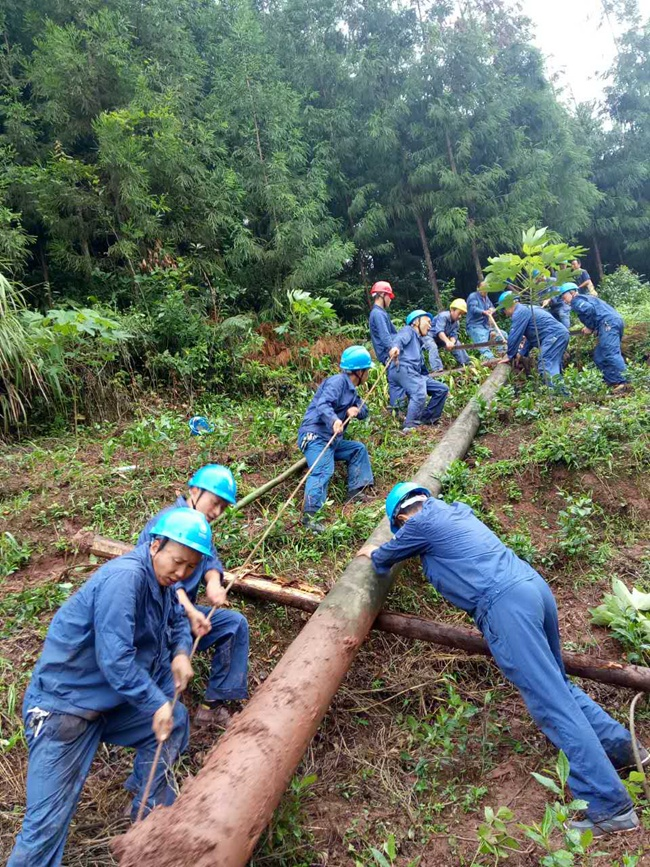blue: (148, 506, 212, 589), (186, 463, 235, 524), (382, 478, 431, 533), (338, 344, 373, 386), (406, 307, 431, 338), (557, 281, 579, 307)
red: (368, 279, 395, 309)
yellow: (448, 296, 468, 320)
